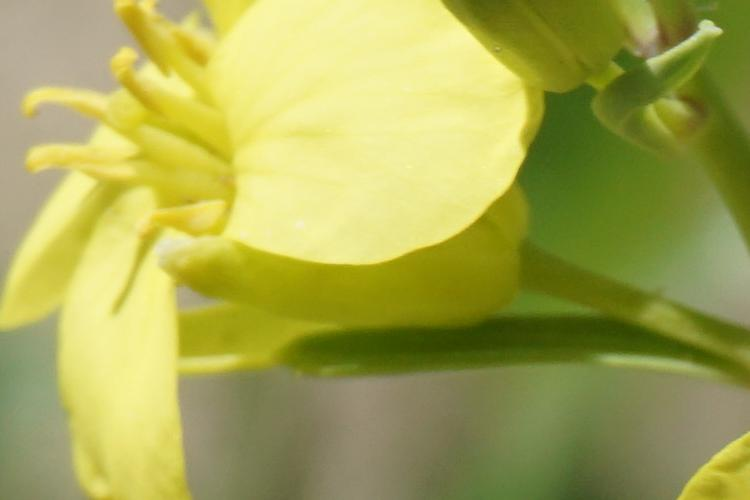yellow: (23, 5, 564, 463)
